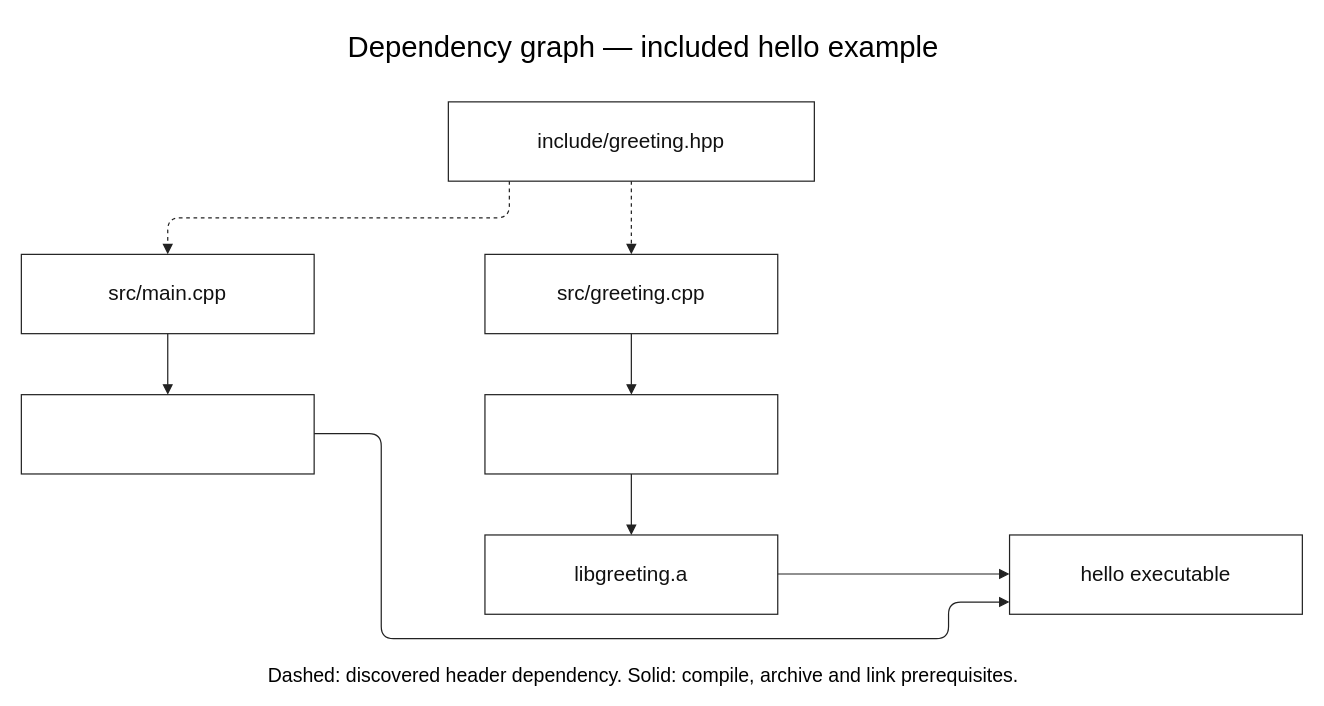
This 1324x706 diagram has some shape labels left out. Here are the shapes that lost their labels. From the top down, the centre of each, then its label:
point (167, 433): main.o
point (631, 433): greeting.o
